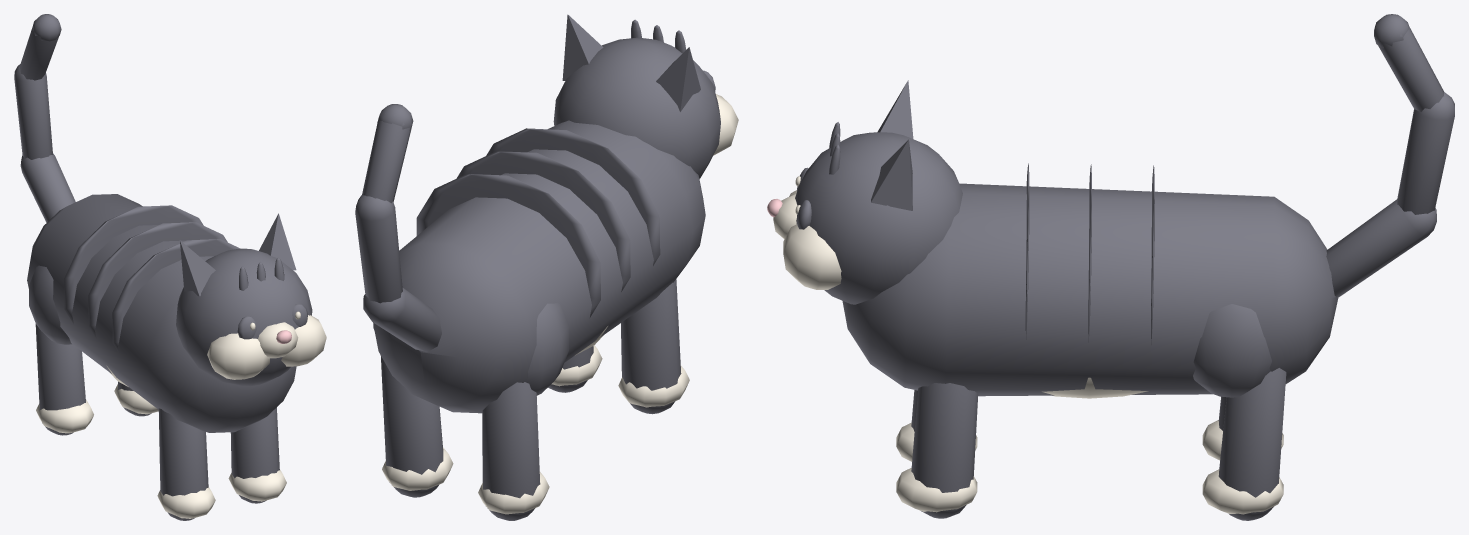
Rendered from companion-animals-and-pet-home-cat-standing-tuxedo-26e3181b__20542.glb.
3 views of the same model, side by side, from view 1: azimuth 30°, elevation 25°; view 2: azimuth 150°, elevation 25°; view 3: azimuth 270°, elevation 25° (orthographic). The views are drawn at different scales.
Visible parts, largest first — view 1: cat-standing-tuxedo; view 2: cat-standing-tuxedo; view 3: cat-standing-tuxedo.
Boxes of the visible parts, box(x1,y1,x2,y2) form: cat-standing-tuxedo: box(14, 14, 326, 520); cat-standing-tuxedo: box(355, 14, 738, 520); cat-standing-tuxedo: box(767, 14, 1454, 520).
Bounding box in the file's own units: 0.2211 × 0.5178 × 0.6759.
